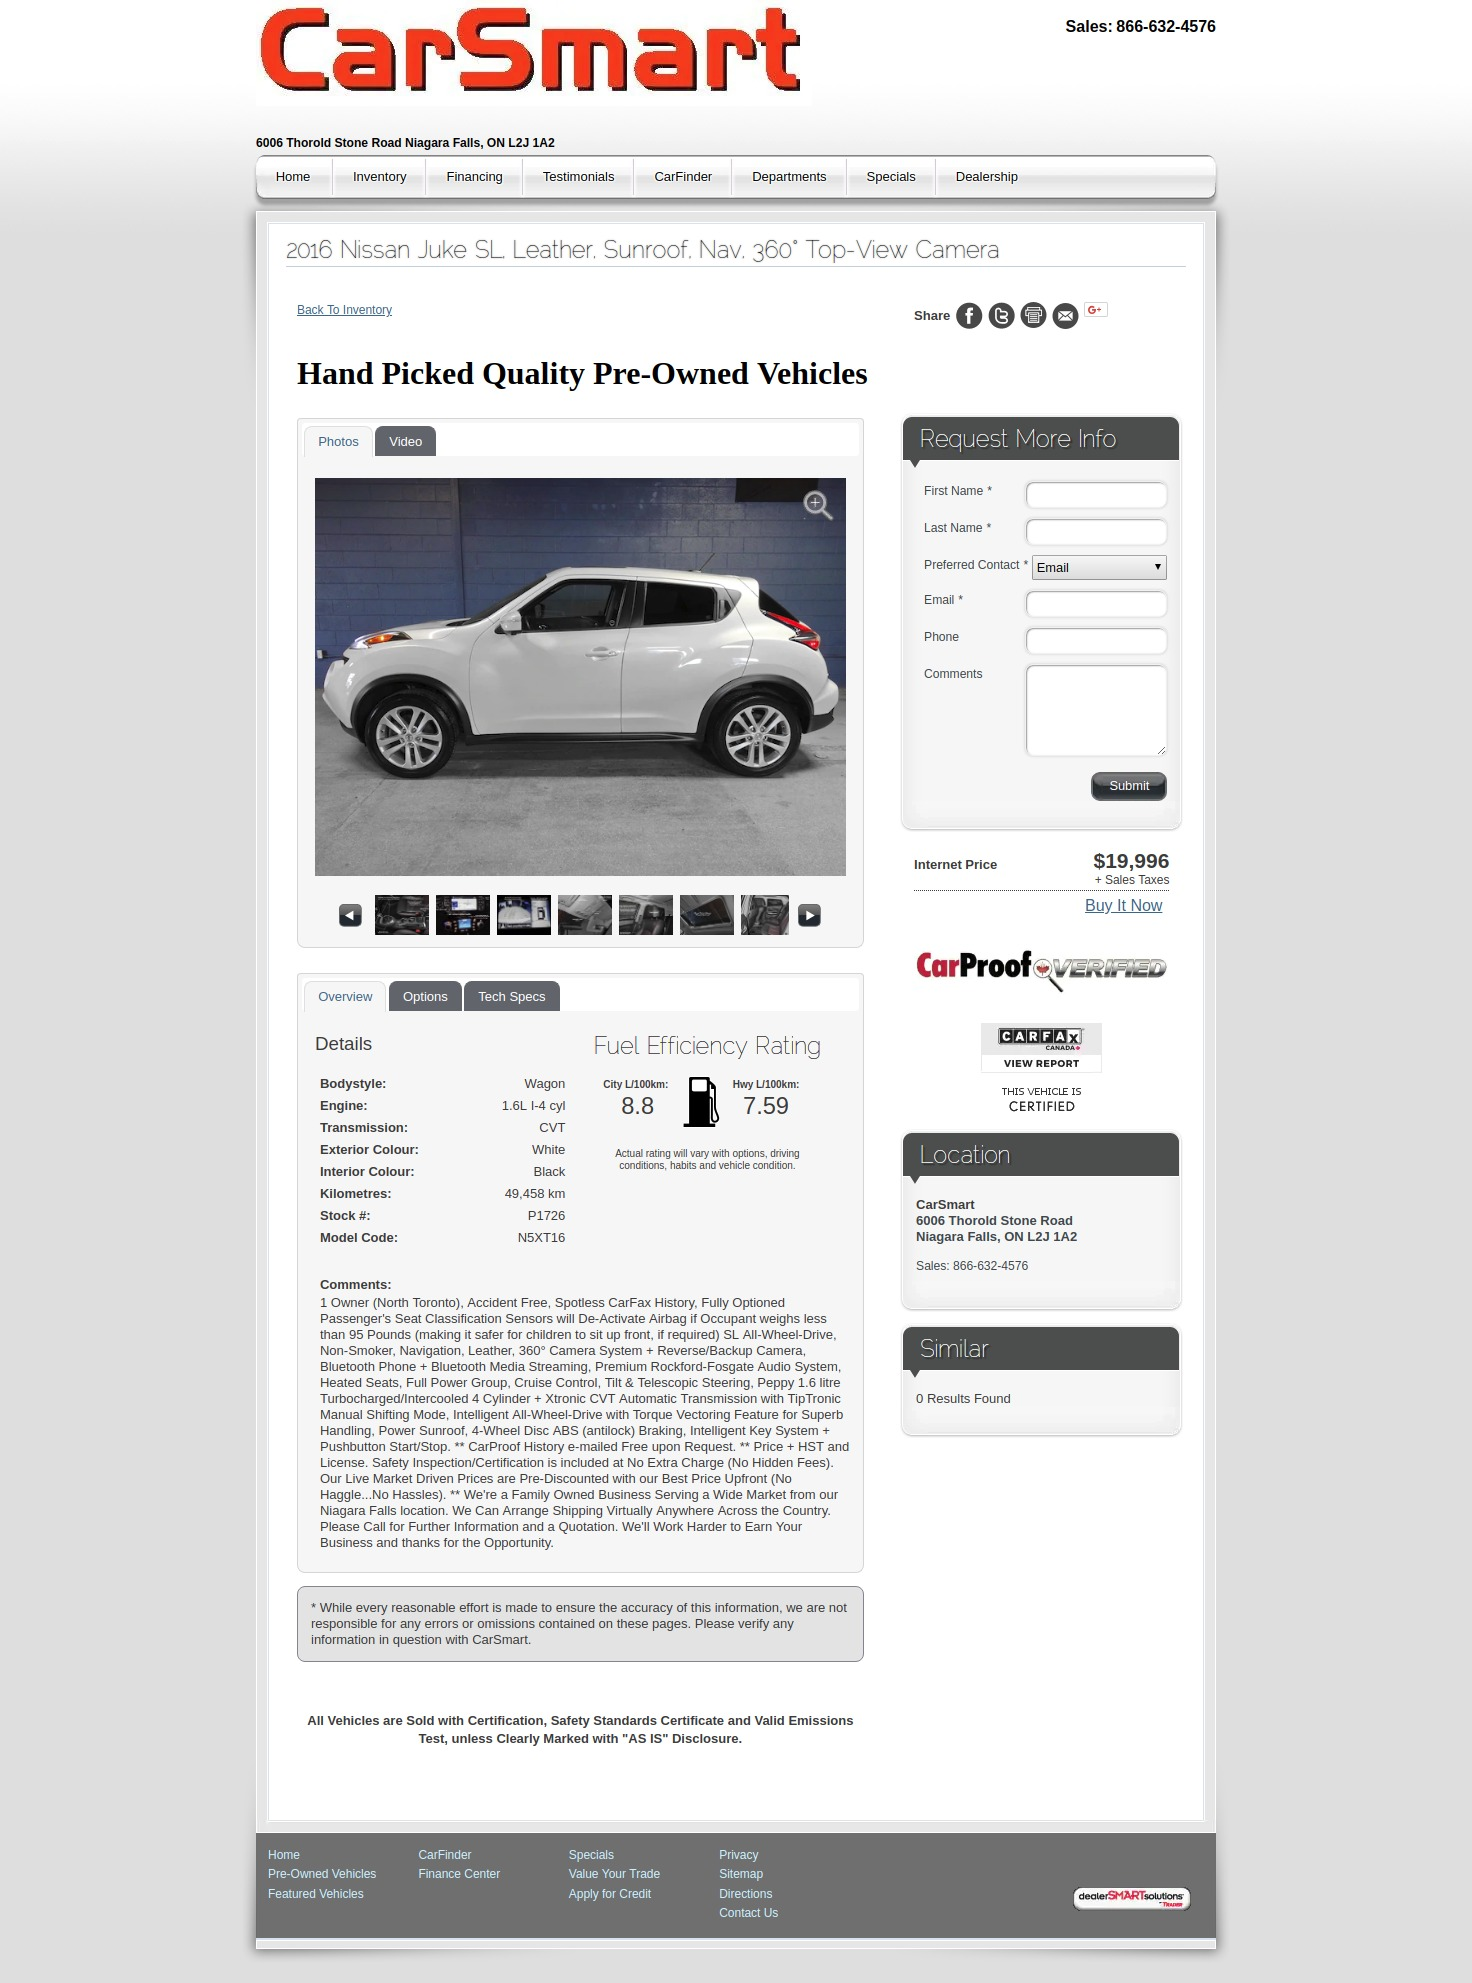car: (798, 904, 823, 929)
